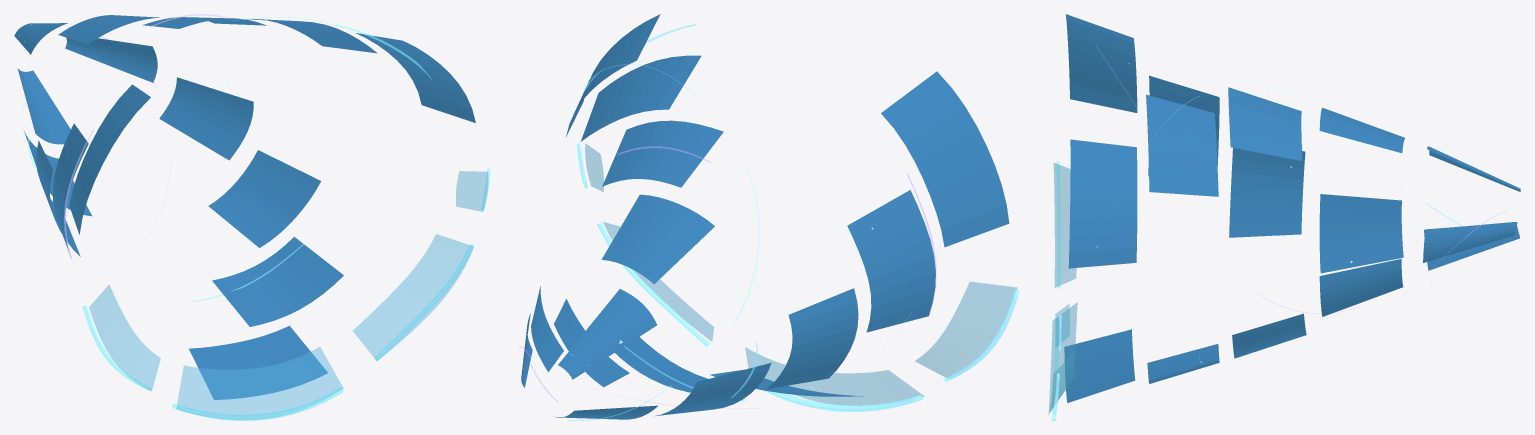
The model's file is wormhole-arena-funnel-v3.glb.
3 renders of one model, left to right at view 1: azimuth 30°, elevation 25°; view 2: azimuth 150°, elevation 25°; view 3: azimuth 270°, elevation 25°, orthographic. The views are drawn at different scales.
Parts seen in each view (by area): view 1: funnel_shell, near_lip_shelf, broken_arena_lip, broken_depth_marks; view 2: funnel_shell, near_lip_shelf, broken_arena_lip, broken_depth_marks, tapered_spiral_seams; view 3: funnel_shell, near_lip_shelf, broken_arena_lip.
Part boxes in pixels (x1,y1,x2,y2): funnel_shell: [14, 15, 475, 399]; near_lip_shelf: [89, 171, 488, 419]; broken_arena_lip: [82, 168, 490, 420]; broken_depth_marks: [18, 14, 431, 302]; funnel_shell: [521, 14, 1009, 419]; near_lip_shelf: [585, 143, 1017, 405]; broken_arena_lip: [577, 143, 1019, 411]; broken_depth_marks: [531, 24, 936, 401]; tapered_spiral_seams: [519, 64, 941, 420]; funnel_shell: [1064, 14, 1520, 402]; near_lip_shelf: [1048, 163, 1077, 414]; broken_arena_lip: [1052, 161, 1061, 420].
Size of the model in its own units: 148 by 126 by 155.
